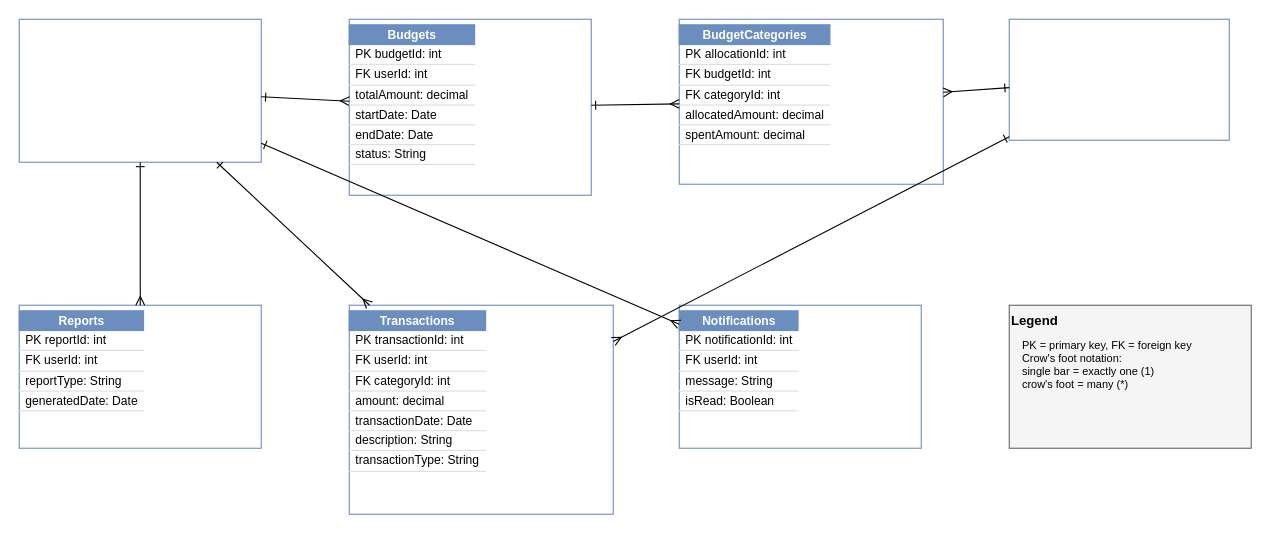
The diagram is 1271 pixels wide and 534 high, and some of its shapes have lost their labels. The centre of each missing label's shape, as x and y in pixels:
"Categories PK categoryId: int name: String type: String" goes at point (1118, 79).
"Users PK userId: int name: String email: String passwordHash: String" goes at point (139, 90).
